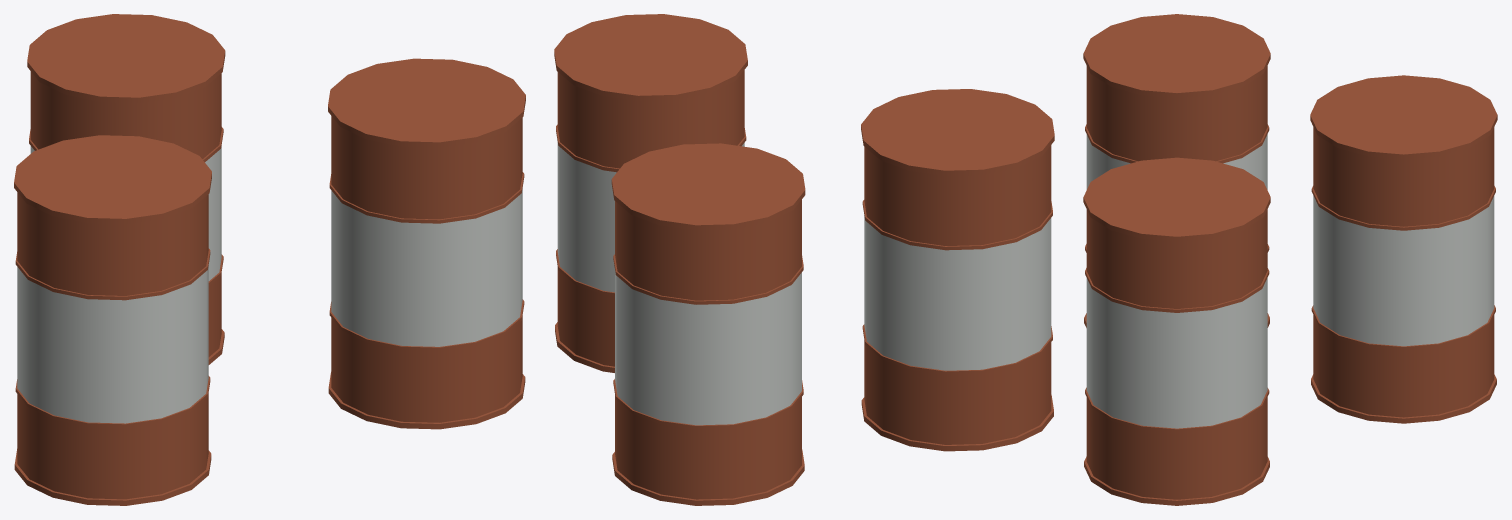
The model's file is barrels.fbx.
3 renders of one model, left to right at view 1: azimuth 30°, elevation 25°; view 2: azimuth 150°, elevation 25°; view 3: azimuth 270°, elevation 25°, orthographic. The views are drawn at different scales.
Parts seen in each view (by area): view 1: pCylinder1, pCylinder2, pCylinder3; view 2: pCylinder2, pCylinder3, pCylinder1; view 3: pCylinder3, pCylinder1, pCylinder2.
Boxes of the visible parts, <box> form: pCylinder1: <box>328,58,525,429</box>; pCylinder2: <box>14,135,211,505</box>; pCylinder3: <box>27,14,225,364</box>; pCylinder2: <box>861,89,1054,451</box>; pCylinder3: <box>611,143,805,505</box>; pCylinder1: <box>554,14,747,372</box>; pCylinder3: <box>1310,75,1497,423</box>; pCylinder1: <box>1083,157,1270,505</box>; pCylinder2: <box>1083,14,1270,327</box>.
Bounding box in the file's own units: 4.16 × 2.35 × 3.27.
